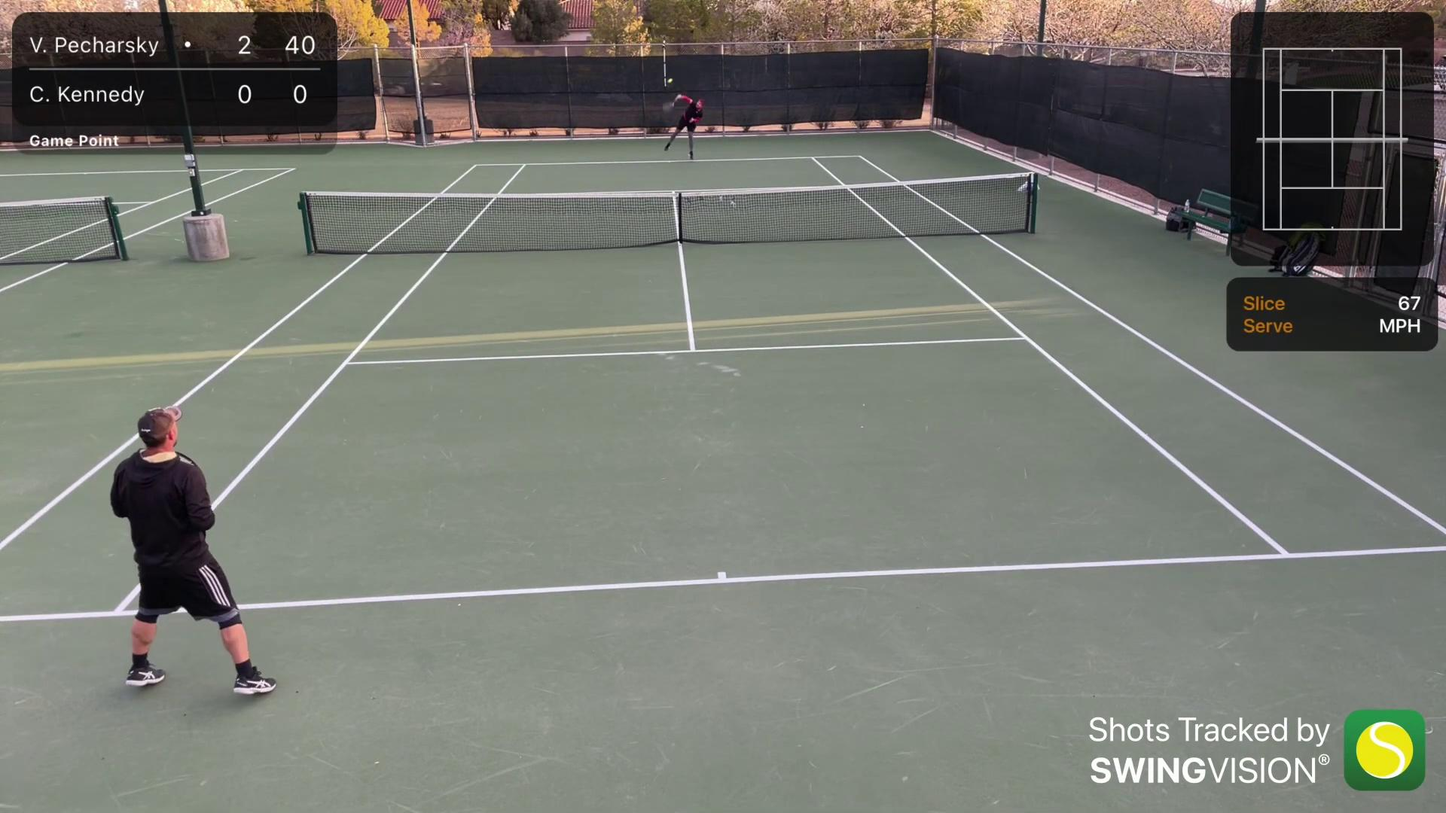ball: (665, 78, 674, 85)
